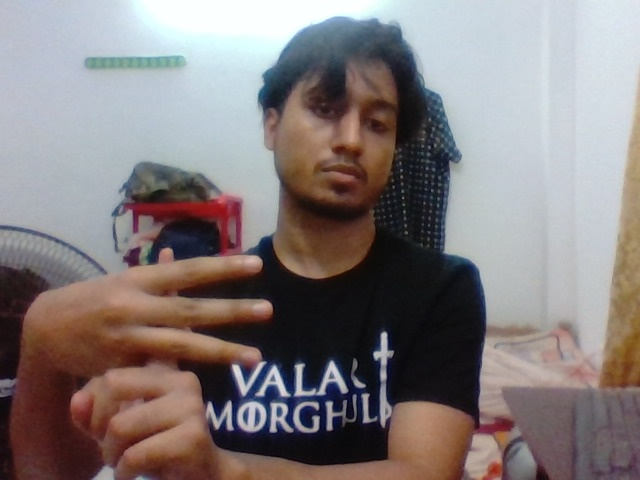E: (79, 237, 284, 453)
